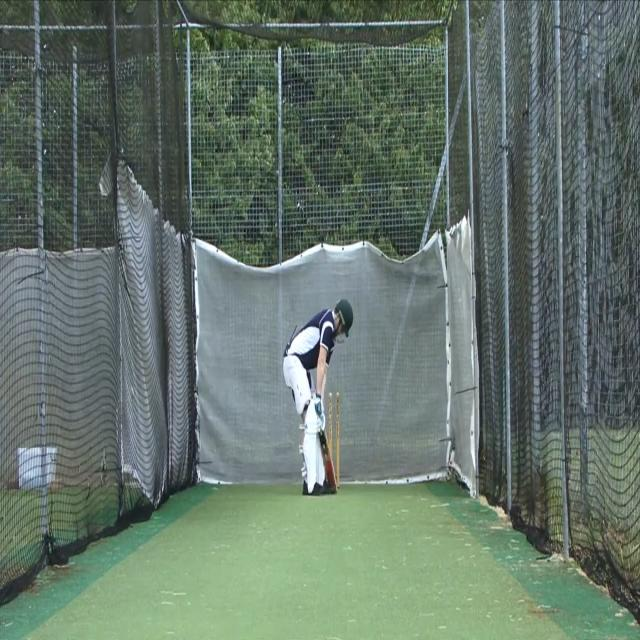batsman: (282, 296, 354, 498)
